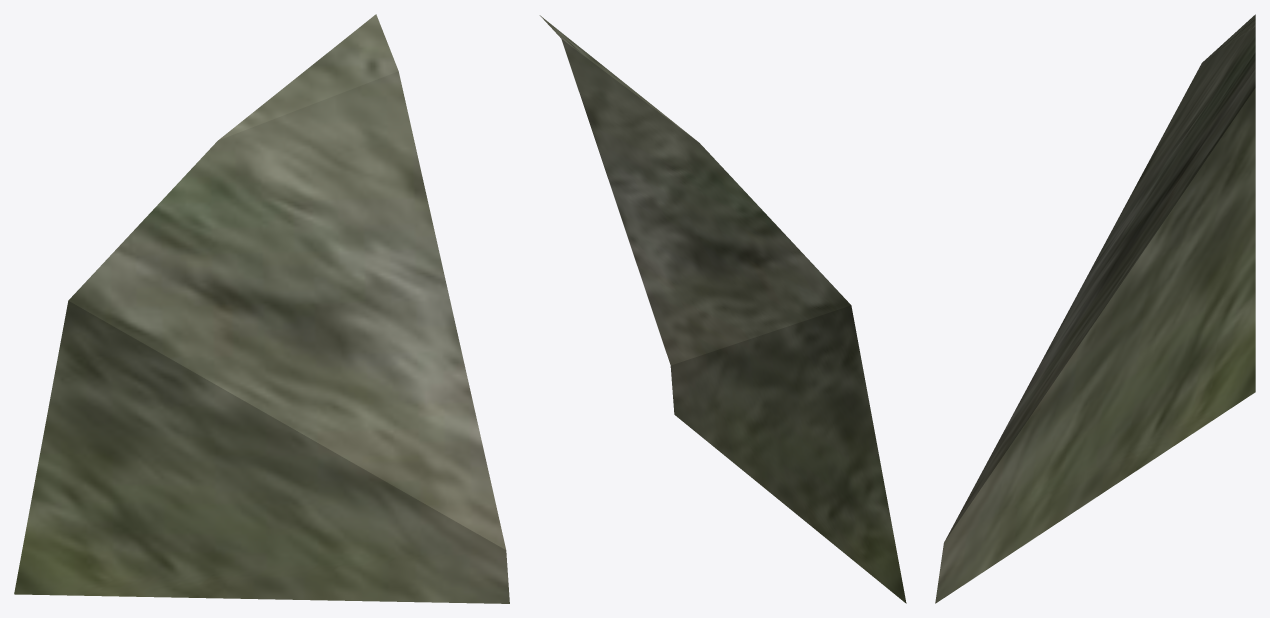
3 views of the same model, side by side, from view 1: azimuth 30°, elevation 25°; view 2: azimuth 150°, elevation 25°; view 3: azimuth 270°, elevation 25° (orthographic). The views are drawn at different scales.
Size of the model in its own units: 1.47 by 1.91 by 0.9405.
Materials: 1 (1 with a texture image).
